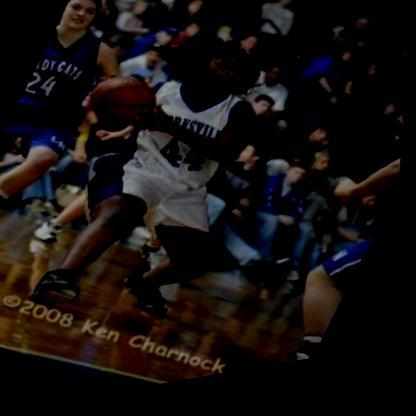basketball: (76, 57, 174, 155)
